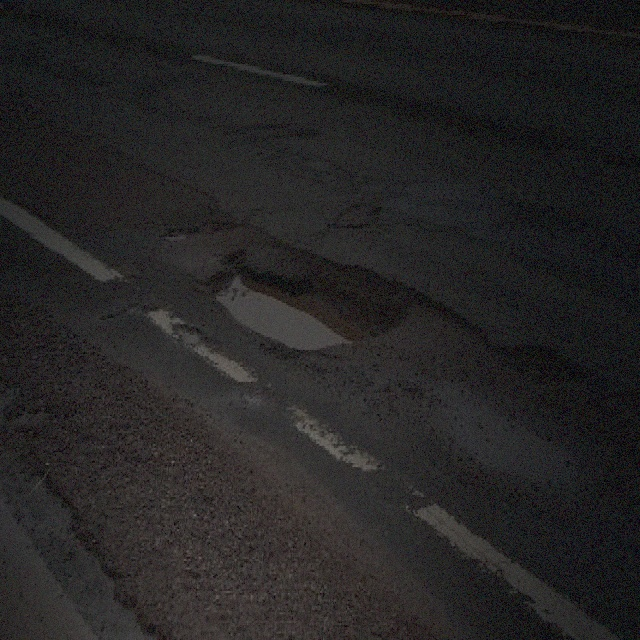pothole: (198, 241, 408, 358), (501, 340, 580, 390), (160, 220, 198, 243)
